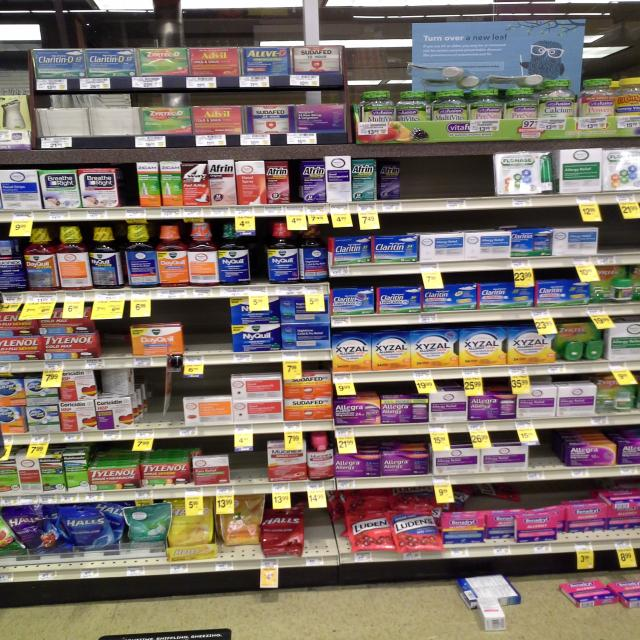empty: (401, 158, 497, 210), (127, 366, 185, 439), (295, 488, 351, 558), (521, 426, 577, 480), (183, 299, 231, 359), (599, 202, 640, 256), (116, 164, 138, 214)
